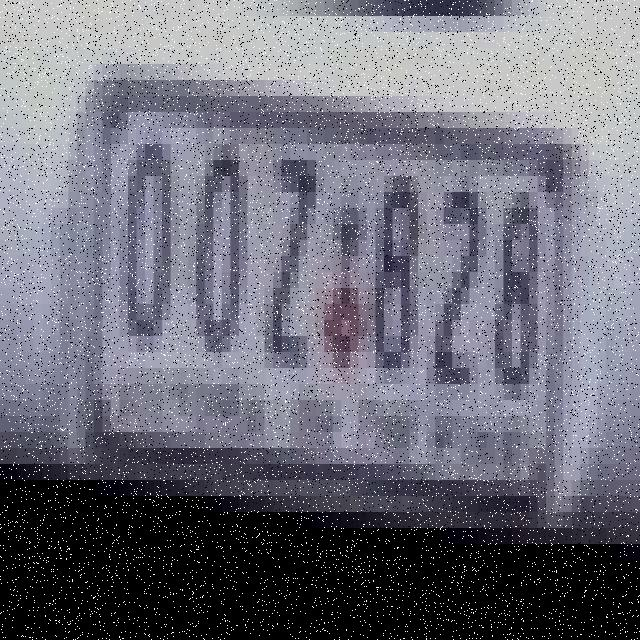licenseplate: (59, 21, 588, 544)
